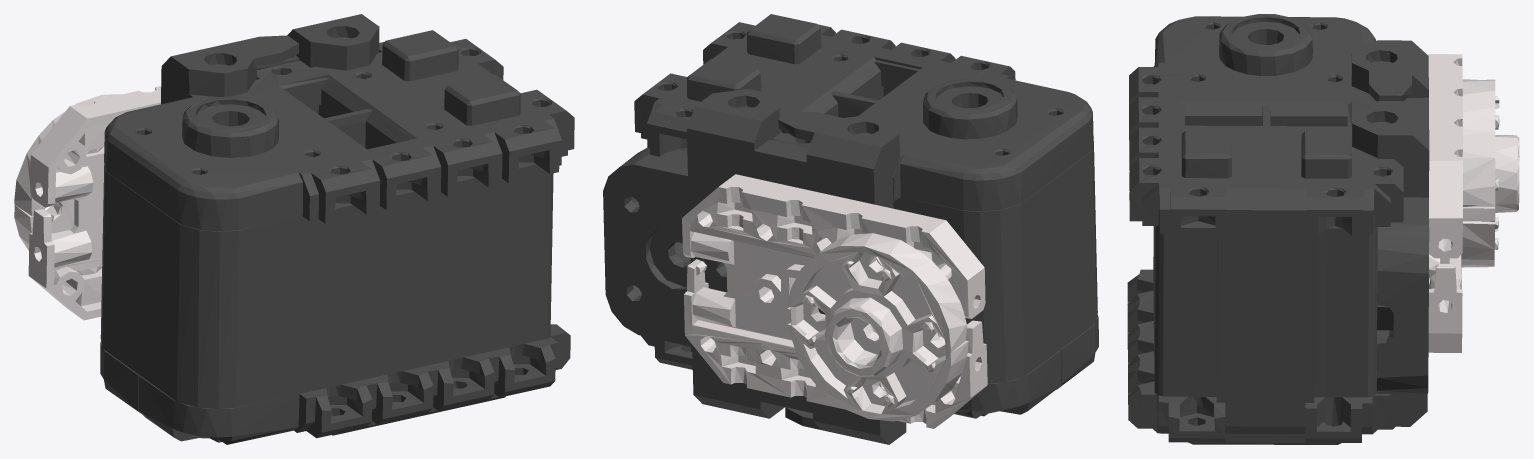
The model's file is arm4_link_1.obj.
3 renders of one model, left to right at view 1: azimuth 30°, elevation 25°; view 2: azimuth 150°, elevation 25°; view 3: azimuth 270°, elevation 25°, orthographic. The views are drawn at different scales.
Visible parts, largest first — view 1: arm4_link_1; view 2: arm4_link_1; view 3: arm4_link_1.
Boxes of the visible parts, x1,y1,x2,y2 form: arm4_link_1: (14, 14, 574, 444); arm4_link_1: (603, 14, 1098, 444); arm4_link_1: (1127, 14, 1519, 444).
Size of the model in its own units: 51.69 by 38.85 by 45.8.
Materials: 1 (1 with a texture image).
